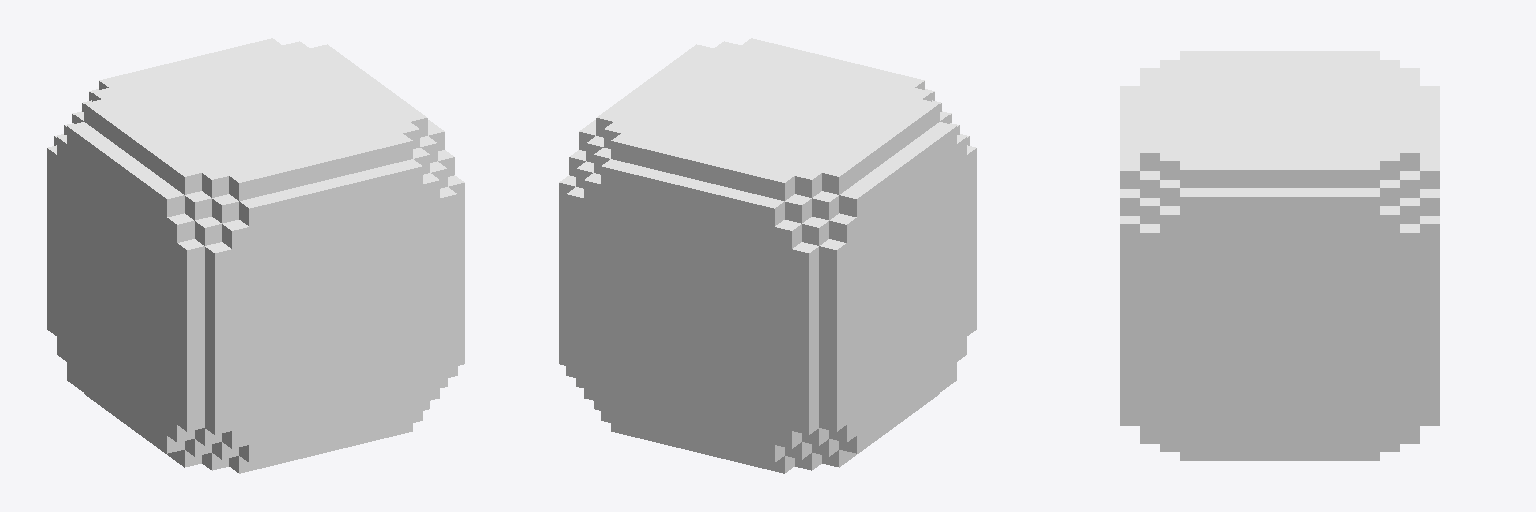
Rendered from TheBobble.obj.
3 views of the same model, side by side, from view 1: azimuth 30°, elevation 25°; view 2: azimuth 150°, elevation 25°; view 3: azimuth 270°, elevation 25° (orthographic).
Parts seen in each view (by area): view 1: object 1; view 2: object 1; view 3: object 1.
Boxes of the visible parts, <box> form: object 1: <box>47,38,464,473</box>; object 1: <box>559,38,976,473</box>; object 1: <box>1120,51,1439,460</box>.
Bounding box in the file's own units: 1.6 × 1.6 × 1.6.